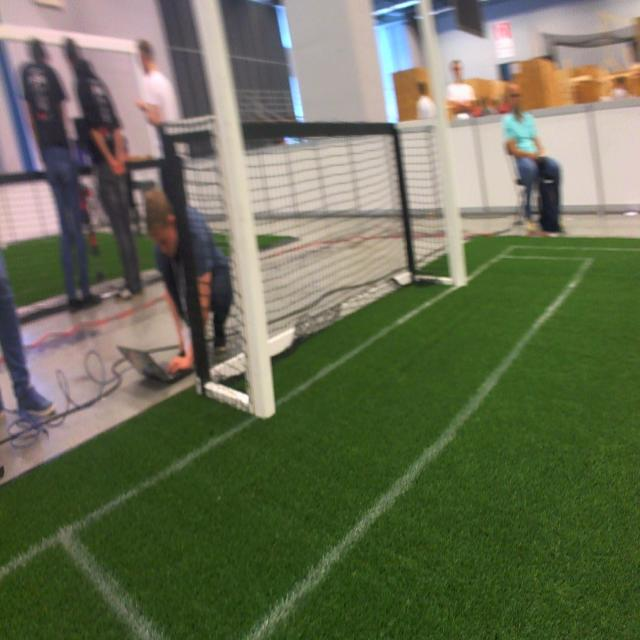goalpost: (190, 1, 278, 417), (416, 1, 468, 284)
